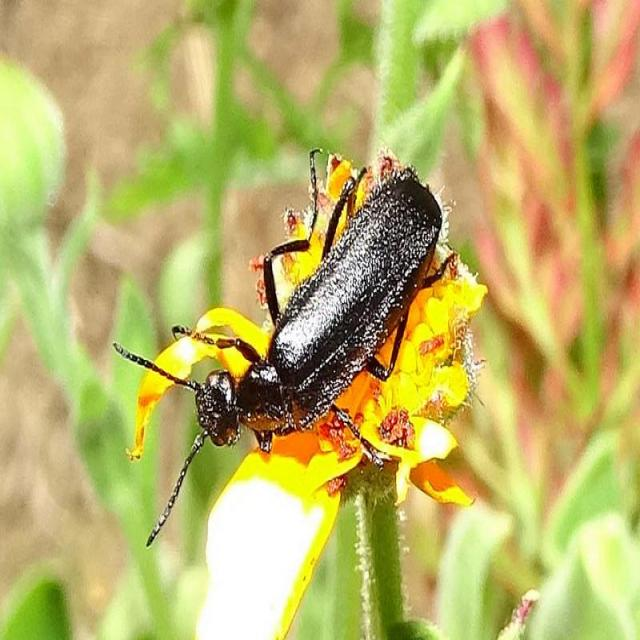BlisterBeetle-Adult-: (106, 136, 460, 564)
